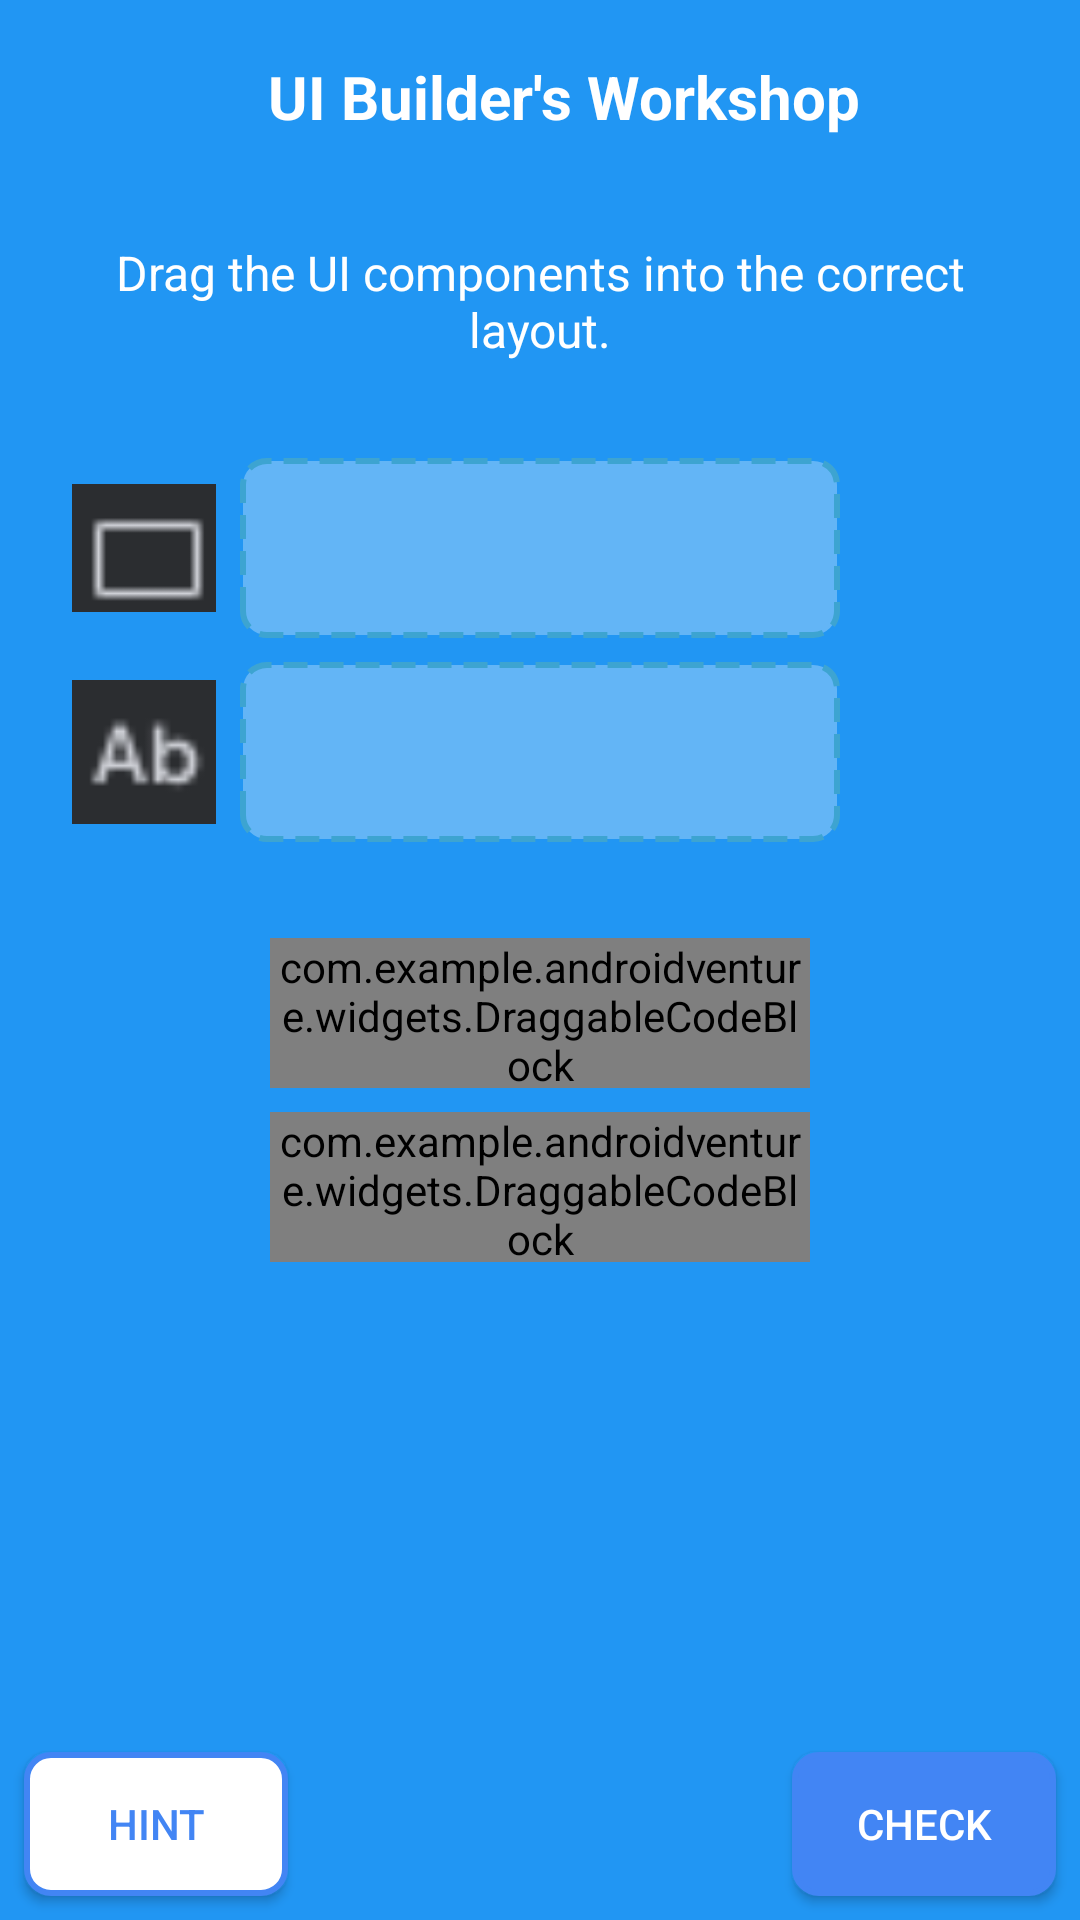

Where icons sit on this 1080px x 1920px app screen, as BBox(x1, y1, x2, y2):
buttonicon: BBox(72, 484, 216, 612)
tviewicon: BBox(72, 680, 216, 824)
